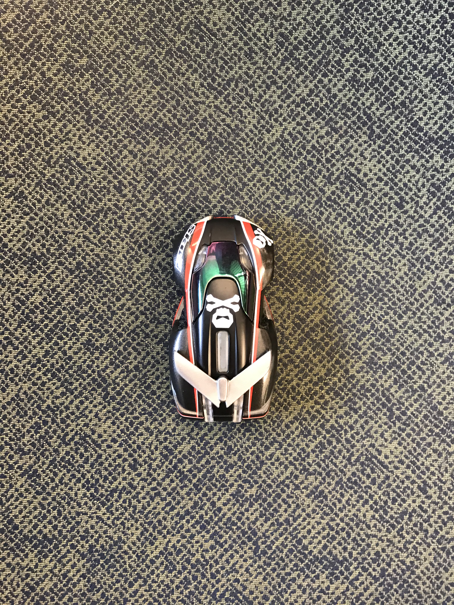Skull: (166, 213, 280, 422)
